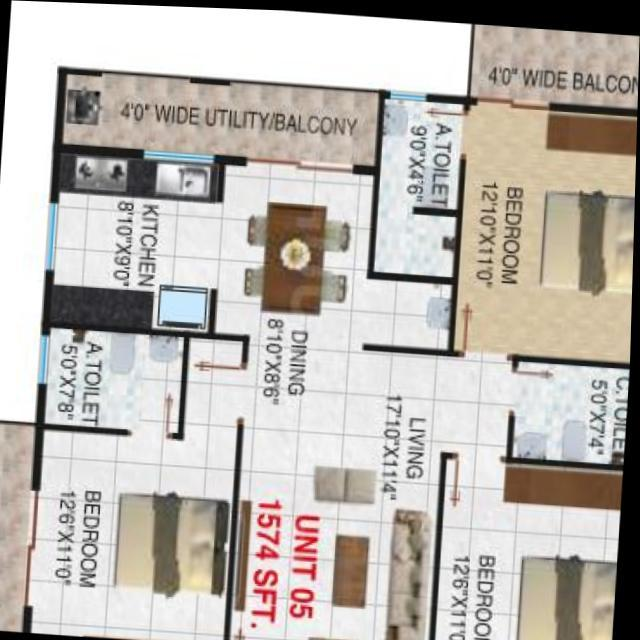Balcony-Sitout: (462, 19, 640, 113), (0, 420, 45, 632)
Bedroom: (25, 423, 249, 640), (429, 447, 626, 640)
Bedroom with Toilet: (449, 94, 638, 465)
Dining: (242, 195, 358, 317)
Kitchen: (37, 147, 231, 341)
Living: (225, 432, 451, 640)
Toilet: (369, 85, 470, 279), (39, 323, 196, 427), (511, 346, 632, 466)
Utility: (55, 62, 387, 163)
